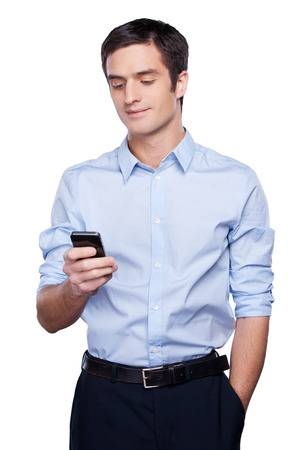F_belt: (79, 347, 228, 379)
F_shirt: (36, 131, 278, 367)
